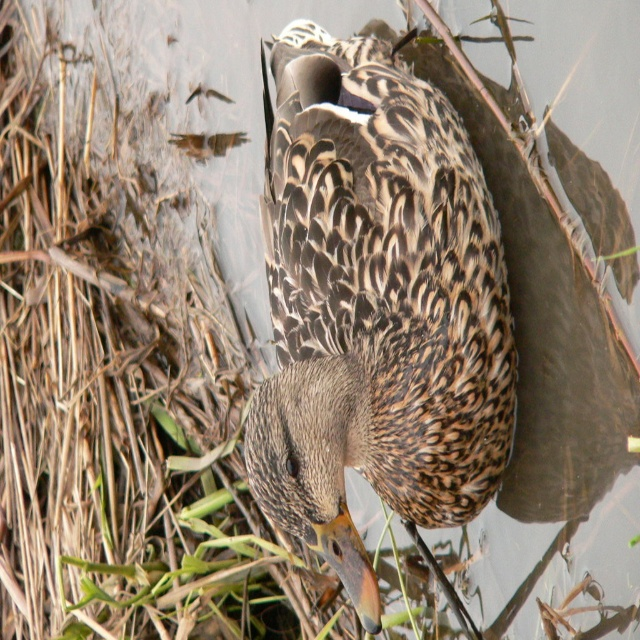Duck: (244, 18, 520, 635)
